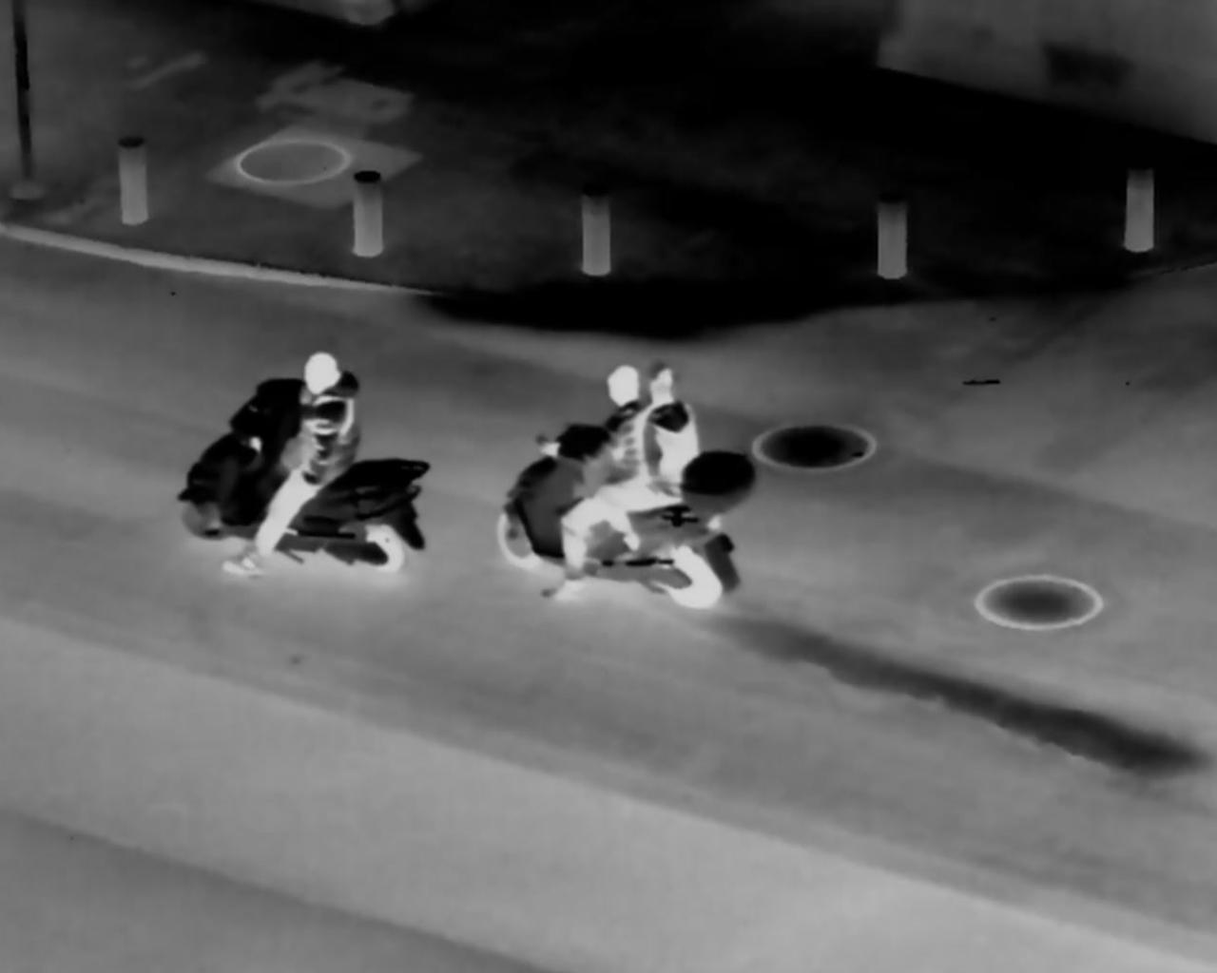person: (237, 351, 357, 576), (566, 353, 631, 590), (620, 361, 702, 540)
